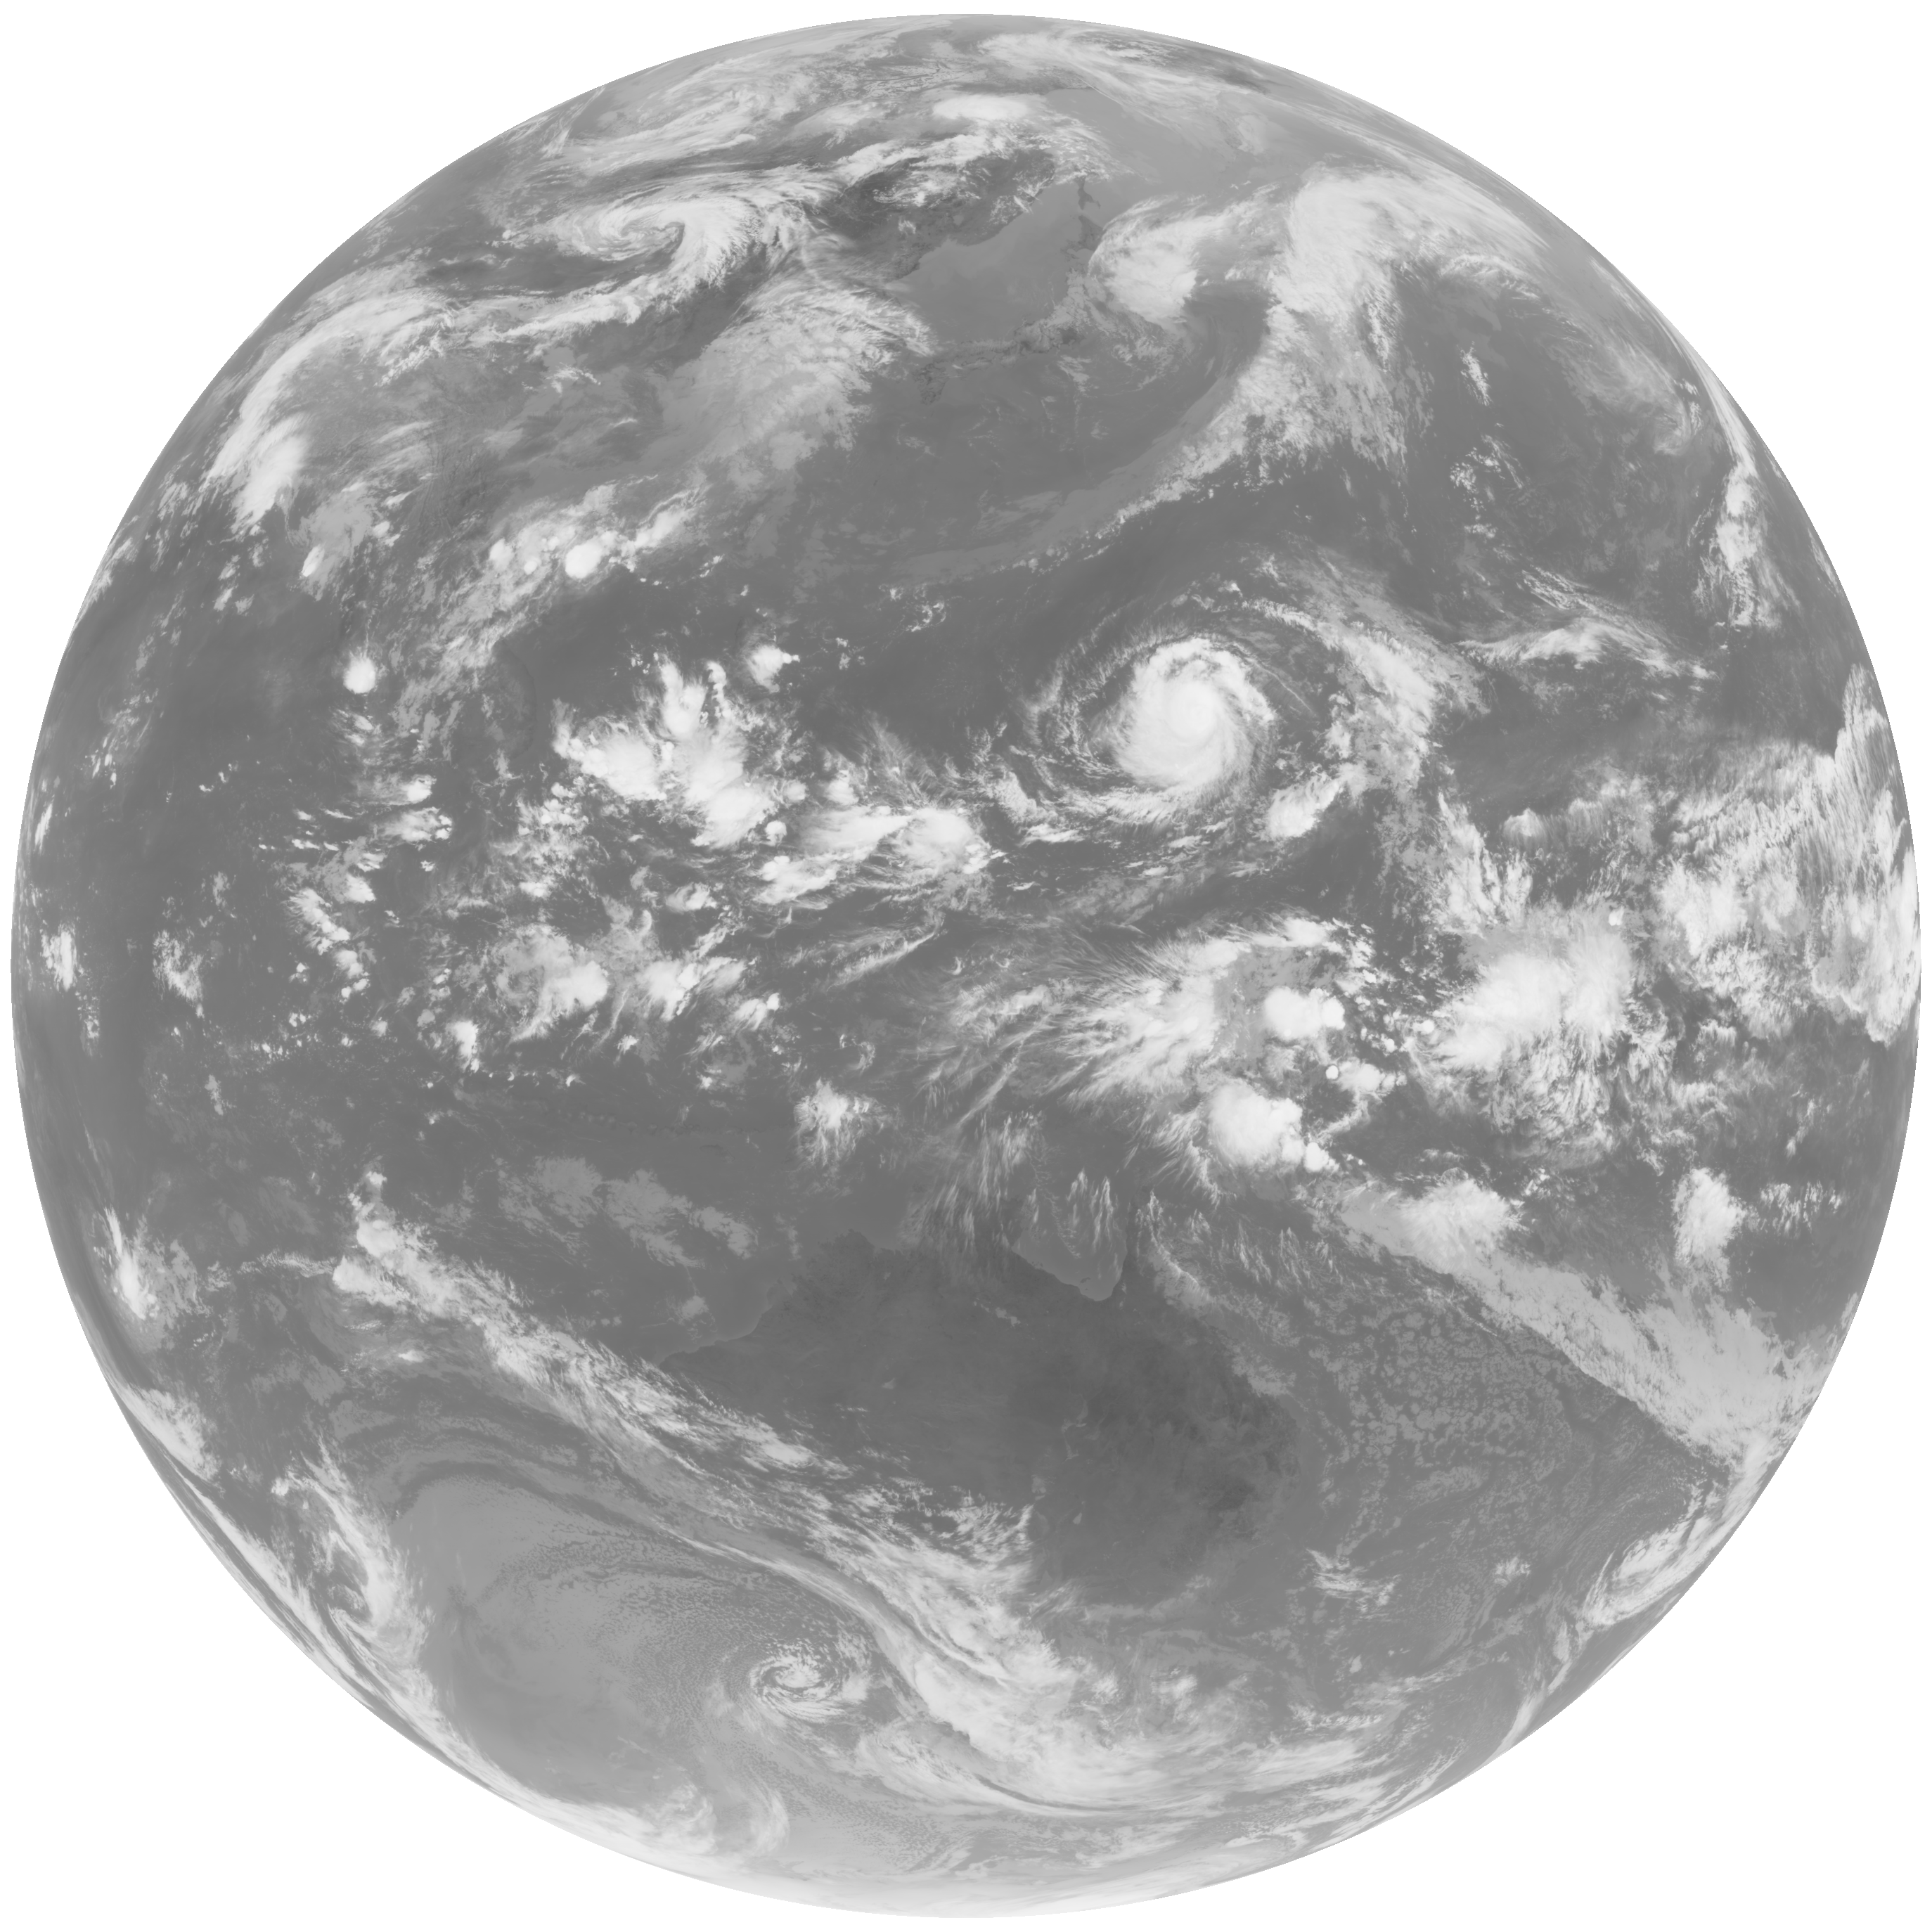typhoon: (941, 540, 1437, 893)
